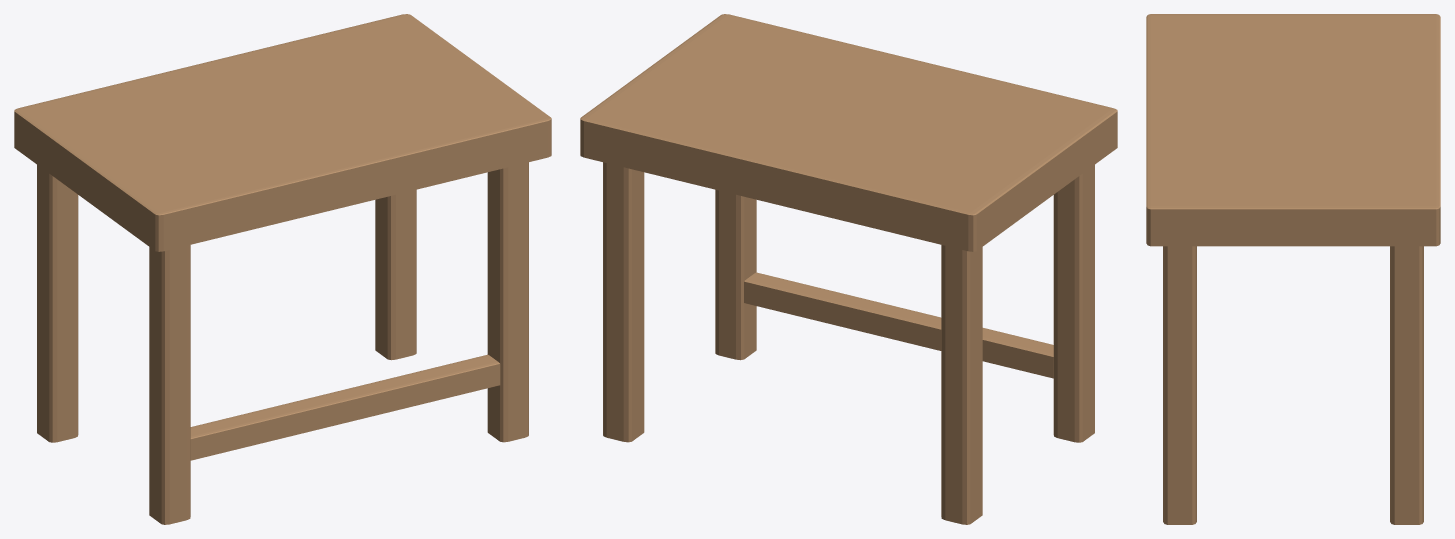
File: workbench.glb
The picture shows the model from 3 angles, left to right: view 1: azimuth 30°, elevation 25°; view 2: azimuth 150°, elevation 25°; view 3: azimuth 270°, elevation 25°; orthographic projection.
Parts seen in each view (by area): view 1: Workbench; view 2: Workbench; view 3: Workbench.
Boxes of the visible parts, x1,y1,x2,y2 form: Workbench: (14,14,551,524); Workbench: (580,14,1117,524); Workbench: (1146,14,1440,524).
Bounding box in the file's own units: 1.1 × 0.85 × 0.7002.
